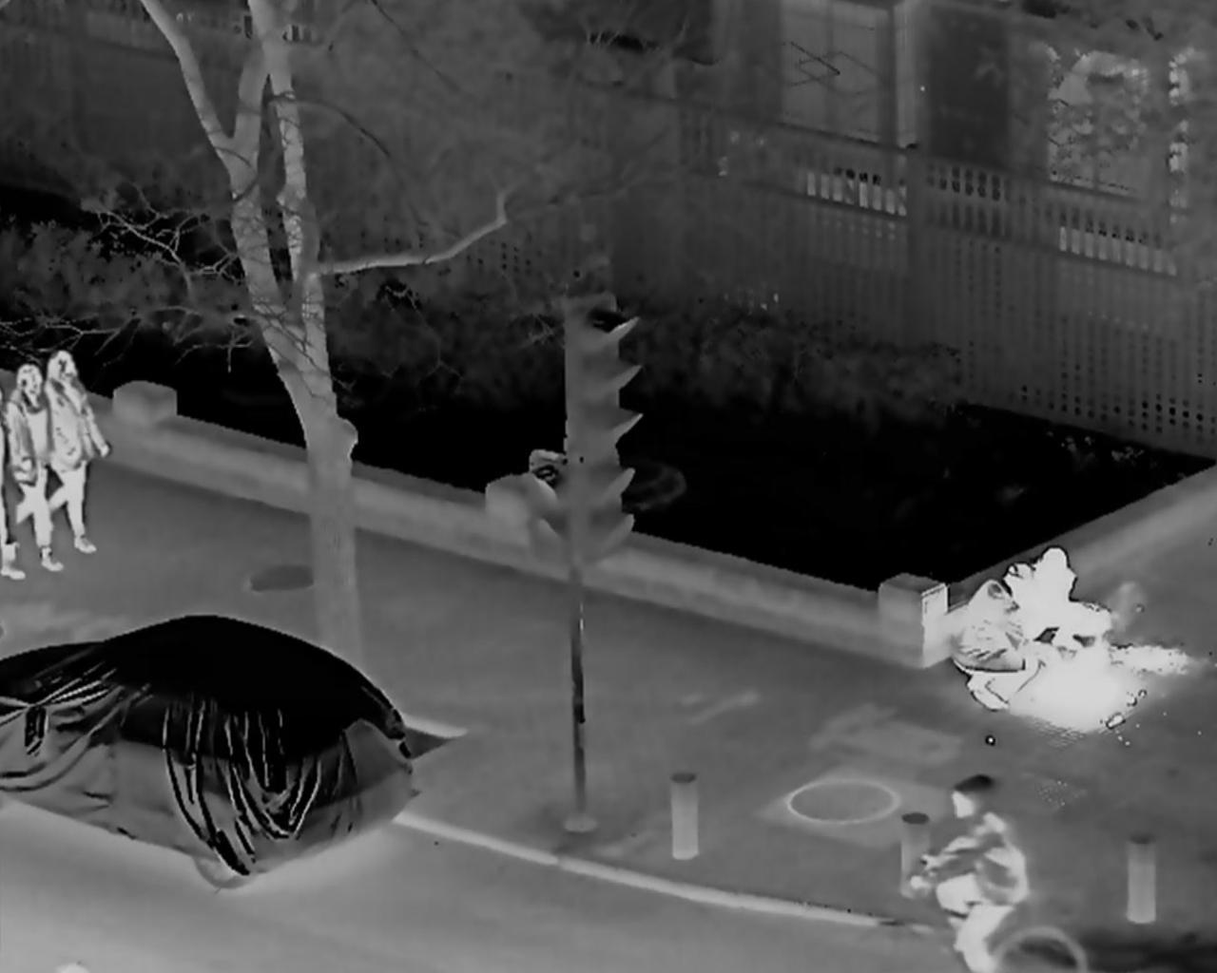person: (907, 778, 1027, 973), (27, 353, 109, 555), (946, 565, 1039, 710), (1009, 549, 1111, 660)
